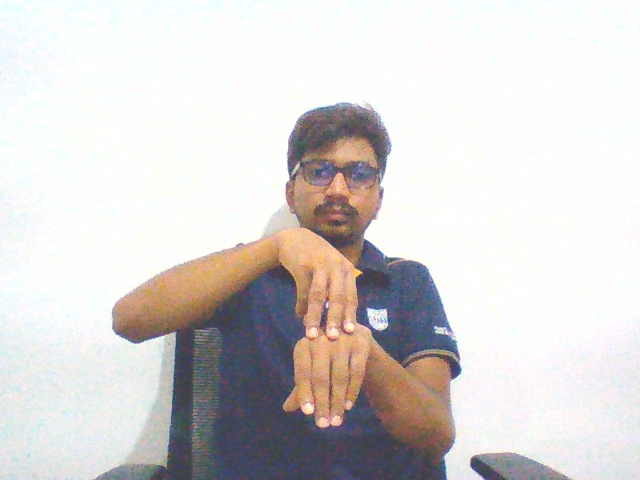papaya: (263, 214, 376, 440)
